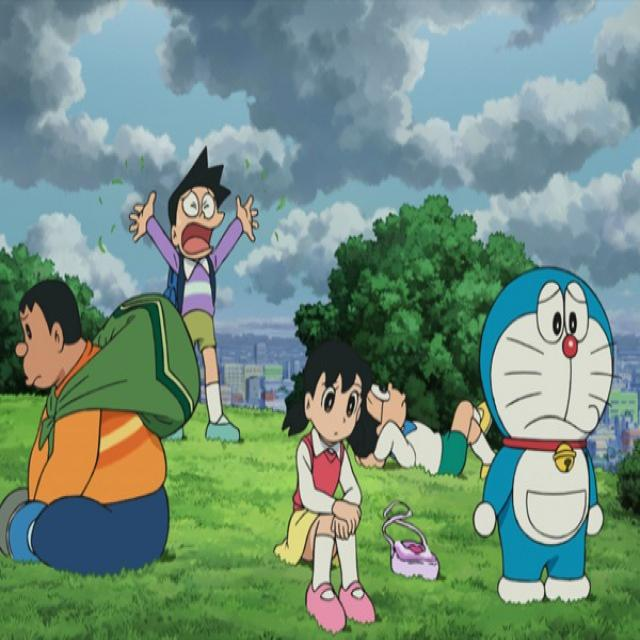jaian: (11, 276, 87, 394)
shizuka: (476, 265, 614, 456), (280, 330, 373, 454)
suneo: (162, 136, 229, 261)
